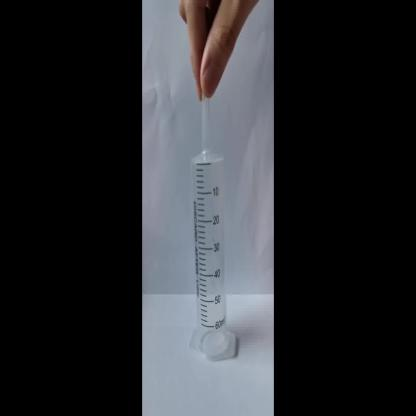dry: (184, 105, 240, 362)
